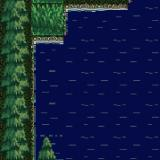Interaction: (29, 51, 48, 160), (60, 0, 137, 17), (29, 32, 61, 52), (60, 17, 78, 52)
Obstacle: (0, 0, 31, 160)
Slow: (31, 0, 63, 35)
